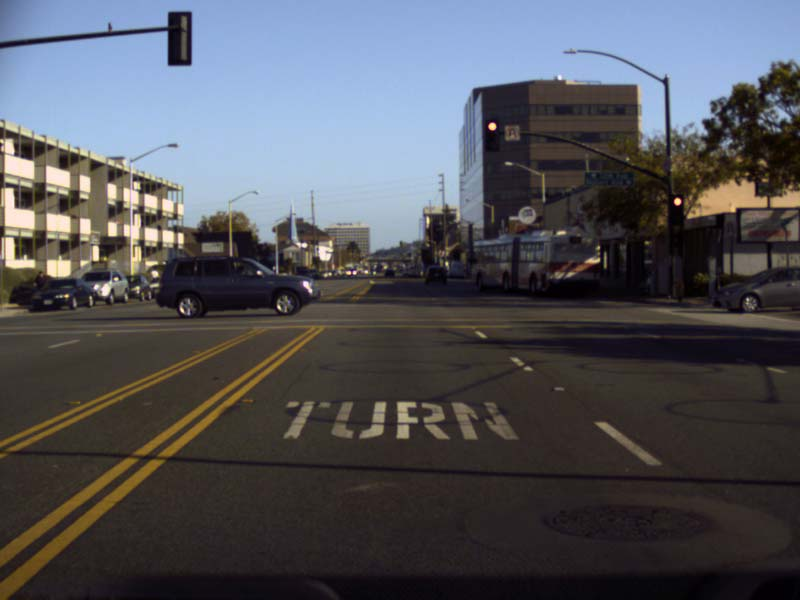Red: (484, 119, 498, 148), (670, 194, 683, 224)
